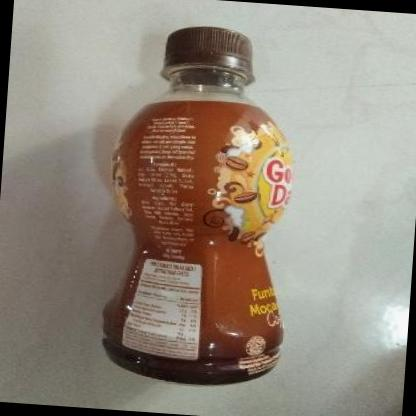plastic_bottles: (94, 15, 307, 393)
